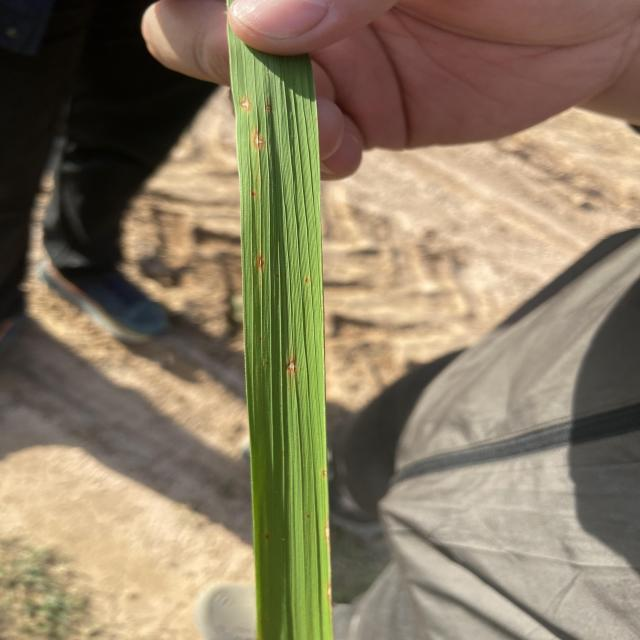Dao on: (252, 129, 266, 148), (240, 95, 251, 113), (287, 360, 295, 373), (259, 258, 264, 266)
